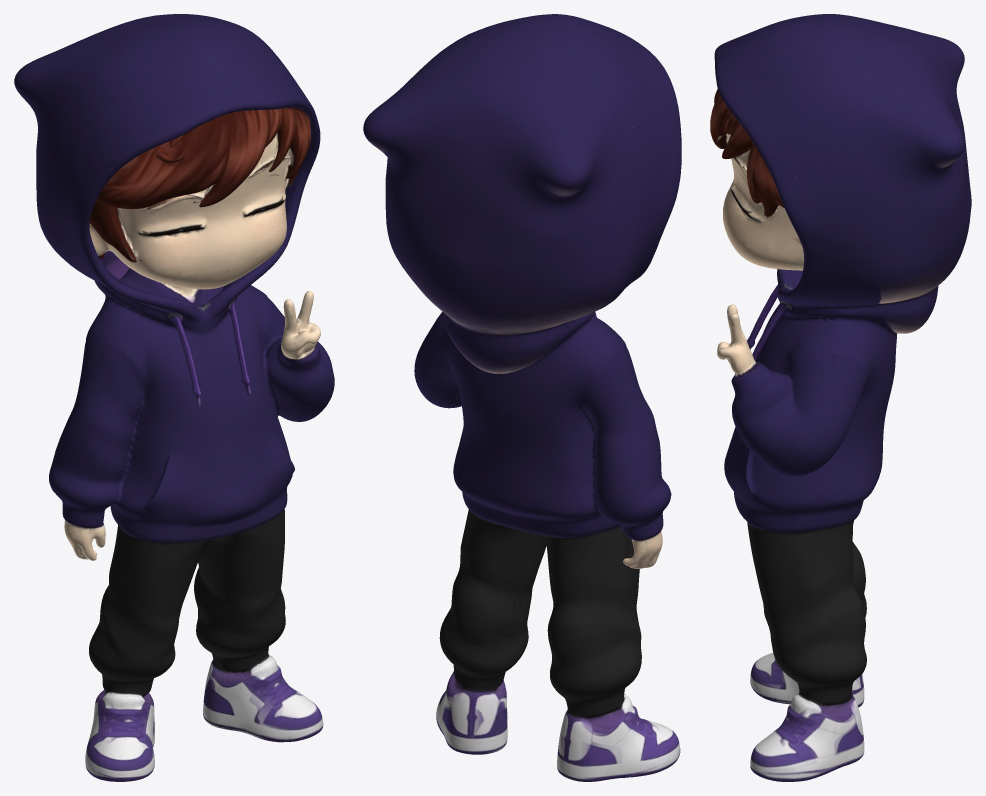
Rendered from owner-character.obj.
The picture shows the model from 3 angles, left to right: view 1: azimuth 30°, elevation 25°; view 2: azimuth 150°, elevation 25°; view 3: azimuth 270°, elevation 25°; orthographic projection. The views are drawn at different scales.
Parts seen in each view (by area): view 1: Meshy_AI_Peaceful_Hoodie_Kid_0902192135_texture; view 2: Meshy_AI_Peaceful_Hoodie_Kid_0902192135_texture; view 3: Meshy_AI_Peaceful_Hoodie_Kid_0902192135_texture.
Boxes of the visible parts, bbox=[...] form: Meshy_AI_Peaceful_Hoodie_Kid_0902192135_texture: bbox=[14, 14, 334, 781]; Meshy_AI_Peaceful_Hoodie_Kid_0902192135_texture: bbox=[363, 14, 681, 781]; Meshy_AI_Peaceful_Hoodie_Kid_0902192135_texture: bbox=[710, 14, 971, 781].
Bounding box in the file's own units: 0.7076 × 1.9 × 0.6399.
Materials: 1 (1 with a texture image).
